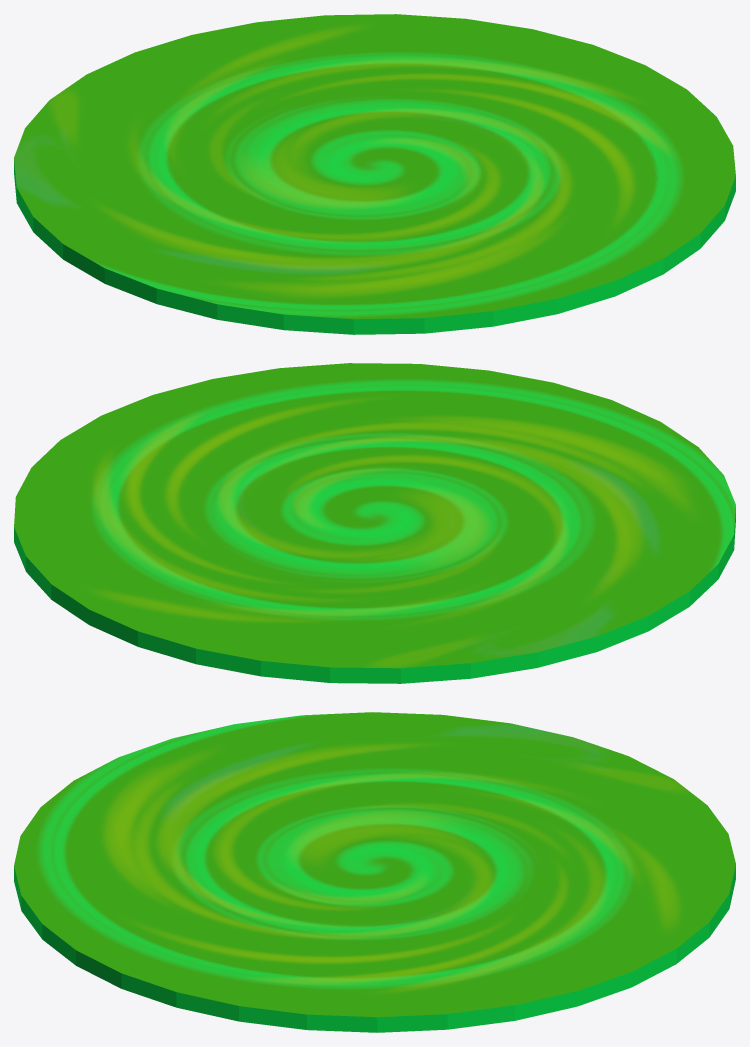
File: teleporter.fbx
3 renders of one model, top to bottom at view 1: azimuth 30°, elevation 25°; view 2: azimuth 150°, elevation 25°; view 3: azimuth 270°, elevation 25°, orthographic.
Visible parts, largest first — view 1: Teleporter; view 2: Teleporter; view 3: Teleporter.
Part boxes in pixels (x1=…): Teleporter: x1=14, y1=14, x2=735, y2=334; Teleporter: x1=14, y1=363, x2=735, y2=683; Teleporter: x1=14, y1=712, x2=735, y2=1032.
Bounding box in the file's own units: 1 × 0.0238 × 1.
1 material, 1 textured.
